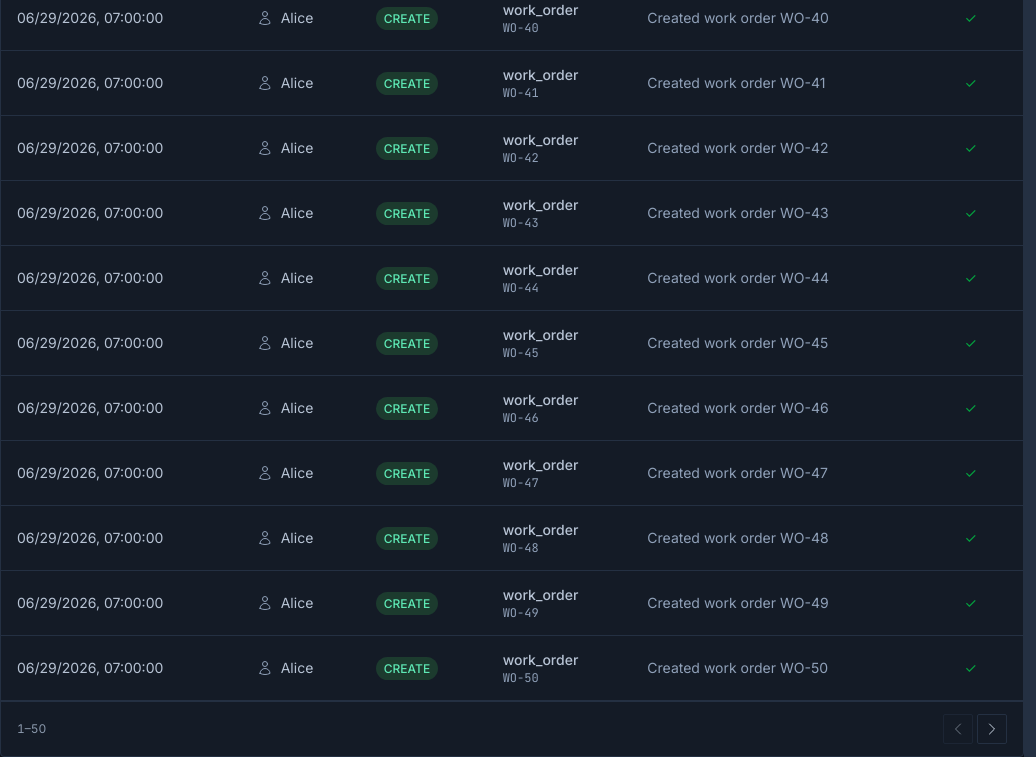
Test case: AuditLog server pagination (Batch 4) › Next refetches at offset PAGE_SIZE (no row skipped at the boundary), Prev returns to offset 0
The image size is (1036, 757).
(page scrolled)
Expected: the text "Created work order WO-50" is shown, [631,636,918,701]
Expected: the button named "Previous page" is disabled, [943,714,973,744]
Step 1. Click the button named "Next page" → x=992, y=729, box [977,714,1007,744]
(page scrolled)
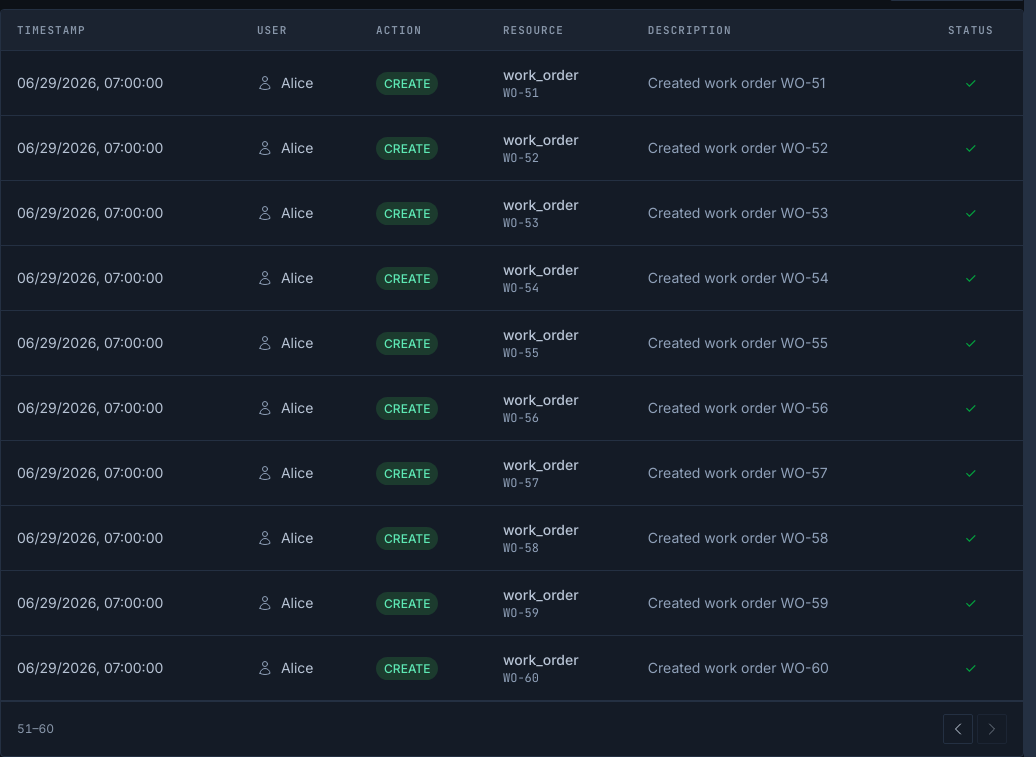
Expected: the text "Created work order WO-51" is shown, [632,51,918,116]
Expected: the text "Created work order WO-50" is gone
Step 2. Click the button named "Previous page" → x=958, y=729, box [943,714,973,744]
(page scrolled)
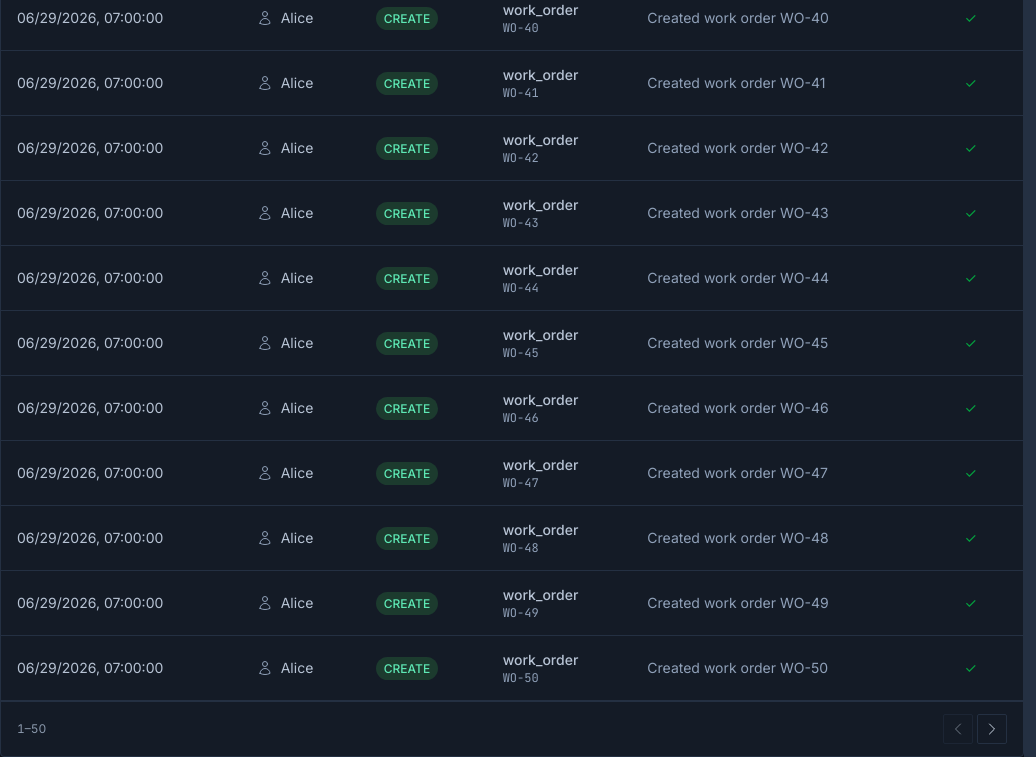
Expected: the text "Created work order WO-50" is shown, [631,636,918,701]
